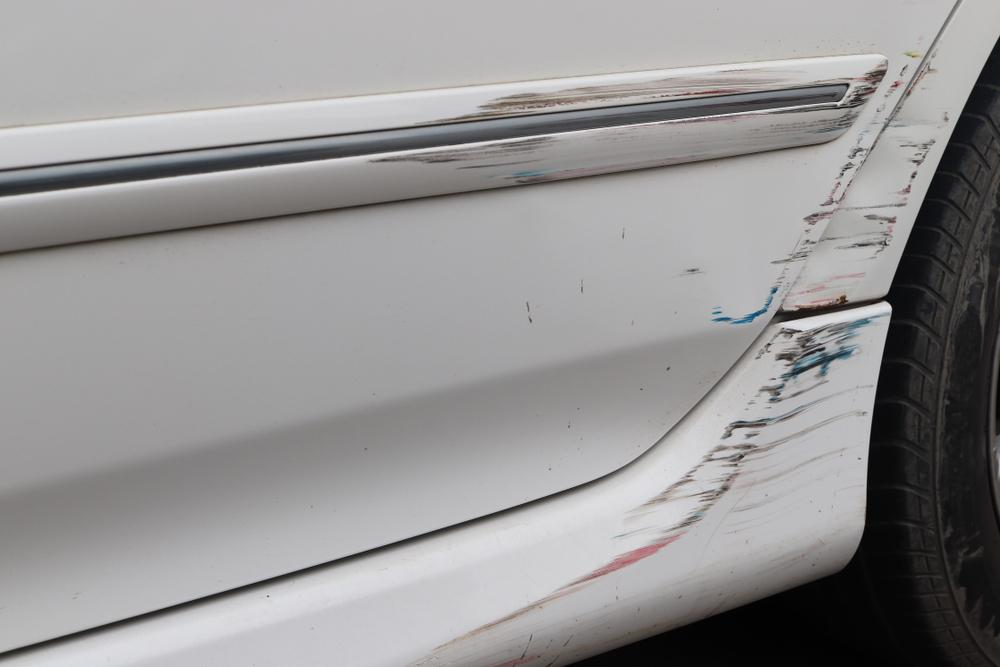scratch: (403, 309, 893, 661), (705, 41, 933, 328), (377, 64, 891, 184), (775, 41, 953, 315)
